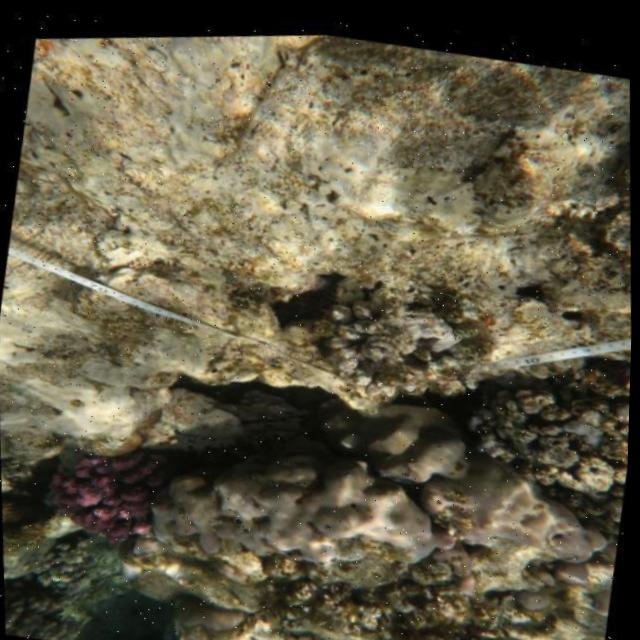Healthy Coral: (29, 421, 179, 566)
